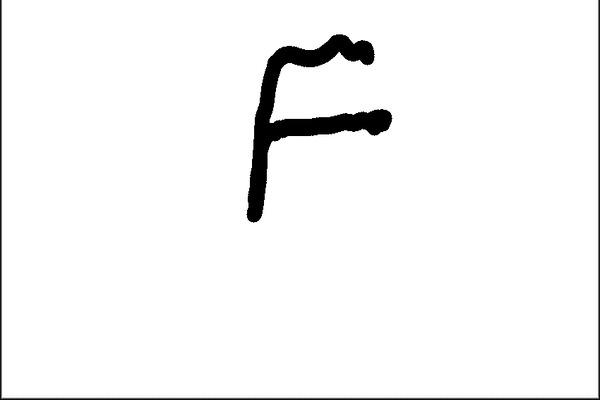F: (242, 29, 396, 226)
